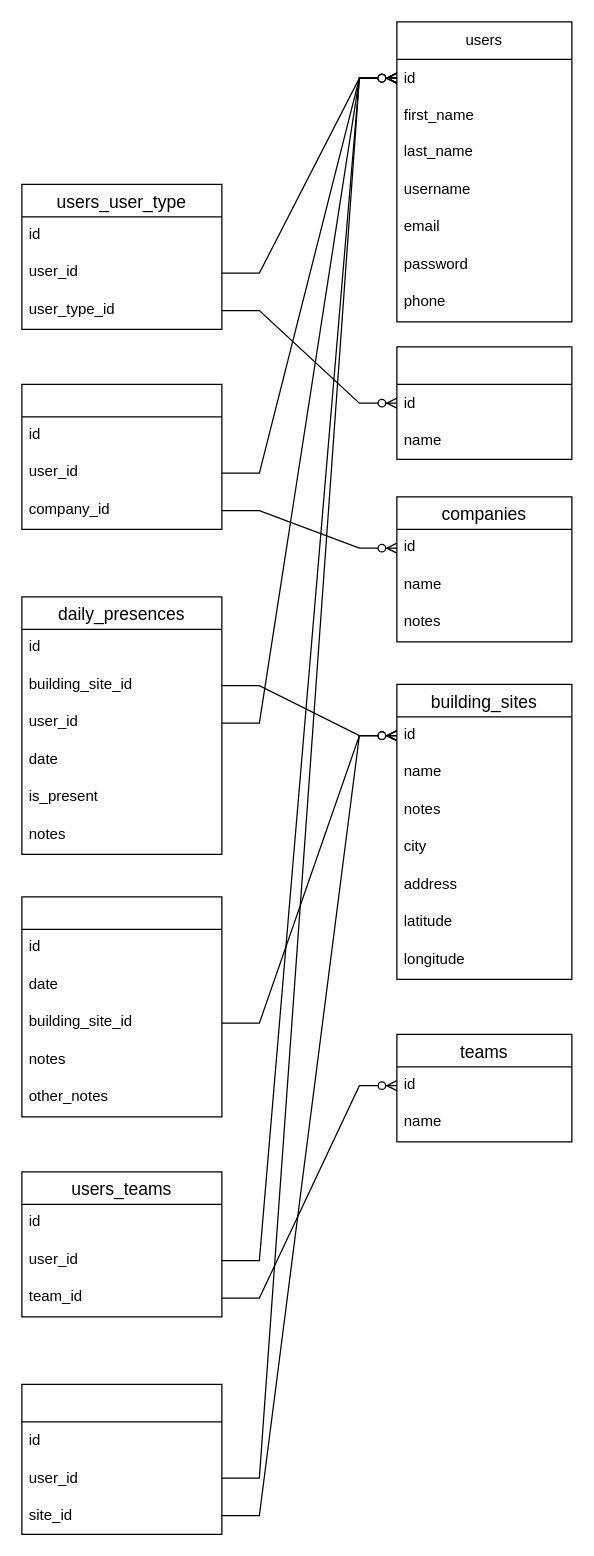
This 594x1556 diagram has some shape labels left out. The box of each missing label's shape, as (x1, y1, x2, y2) in pixels:
daily_notes: (21, 896, 222, 1117)
user_type: (396, 346, 572, 459)
users_building_sites: (21, 1383, 222, 1534)
users_companies: (21, 383, 222, 529)
